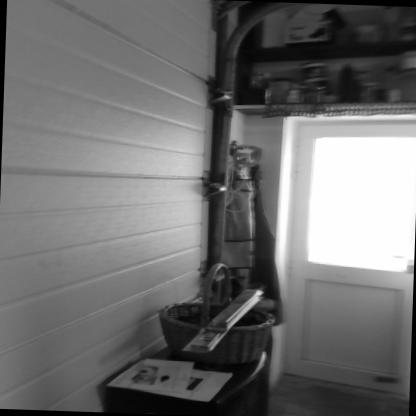closed: (261, 110, 416, 398)
